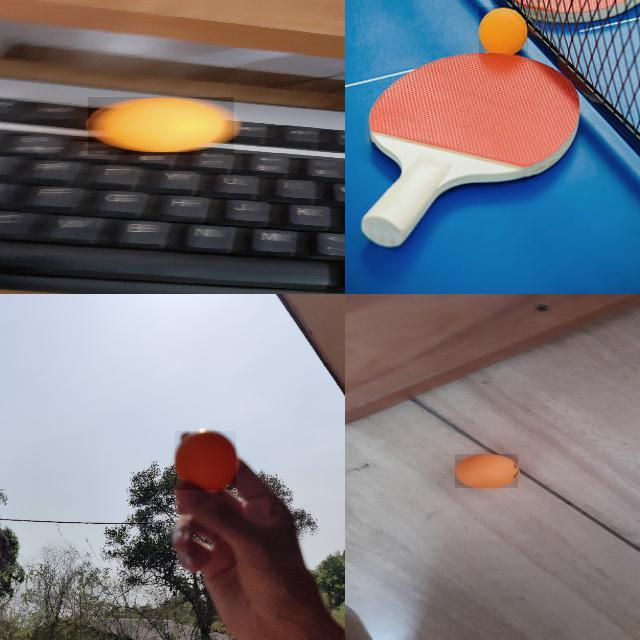ping-pong-ball: (87, 96, 235, 156), (175, 431, 238, 491), (479, 7, 529, 55), (456, 454, 518, 489)
